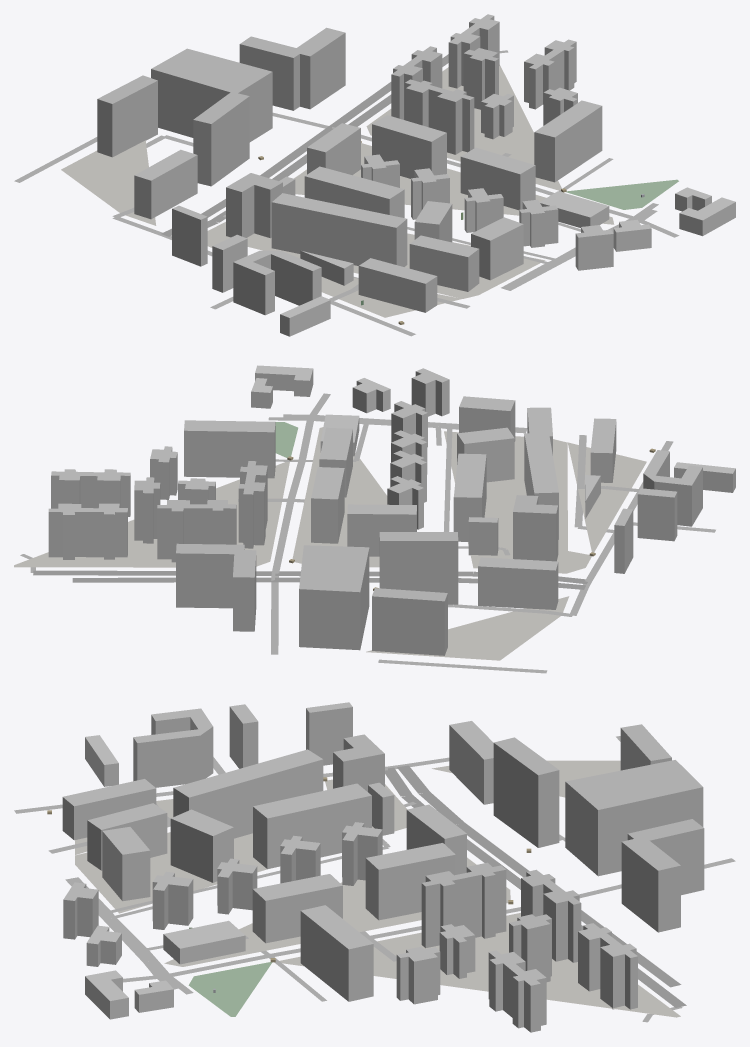
The picture shows the model from 3 angles, top to bottom: view 1: azimuth 30°, elevation 25°; view 2: azimuth 150°, elevation 25°; view 3: azimuth 270°, elevation 25°; orthographic projection. The views are drawn at different scales.
Bounding box in the file's own units: 579 × 66.79 × 593.
